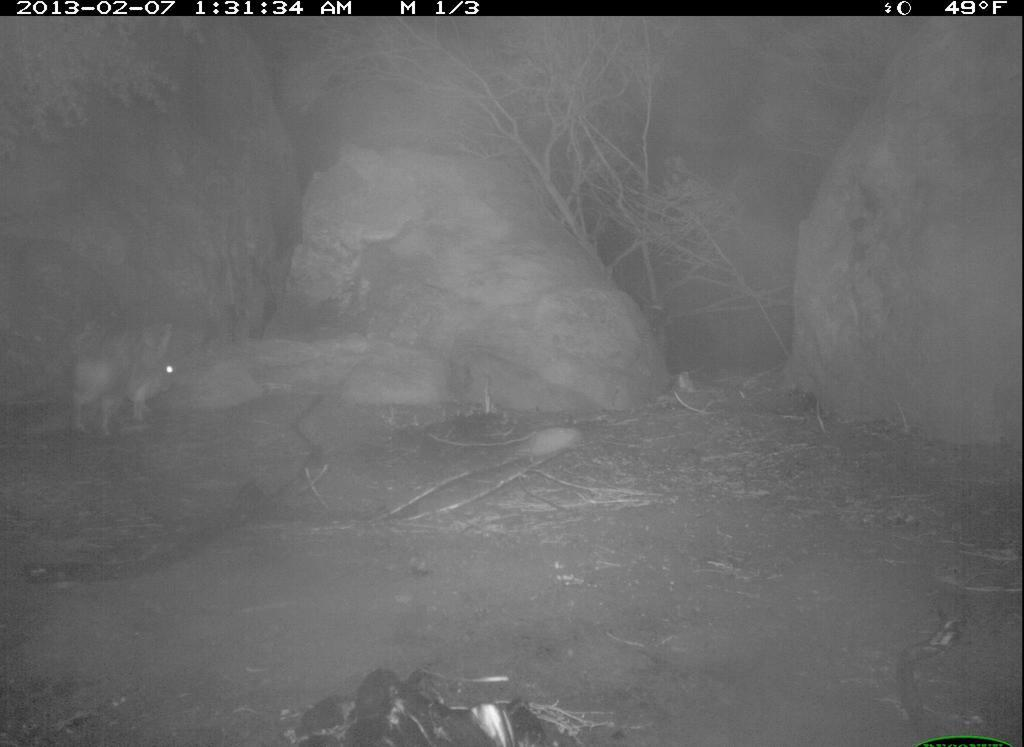rabbit: (65, 314, 187, 441)
